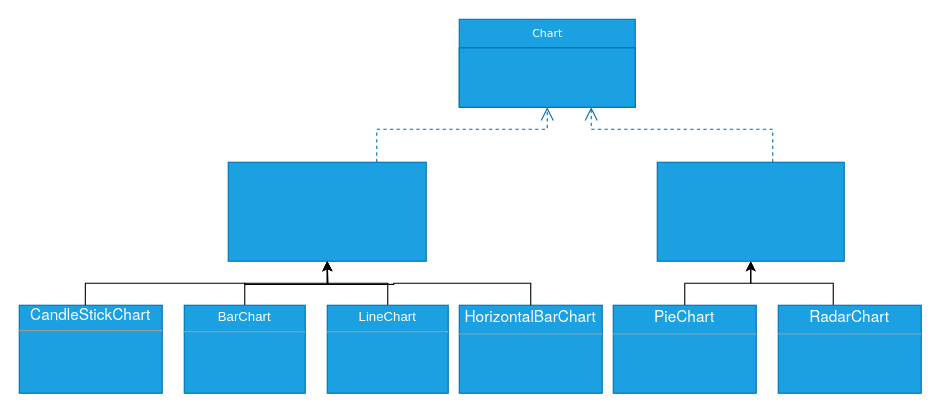
Some shapes in this 941 by 413 pixel diagram are drawn without their labels. The shapes that lost their labels are listed below. From the top down, each one's centre as x and y in pixels, then its label:
(546,77): + onDraw() + onMesure() ……
(326,211): BarLineChartBase + zoom() + setDragEnabled() ………
(750,211): PieRadarChartBase + spin() +setRotationAngle() …………
